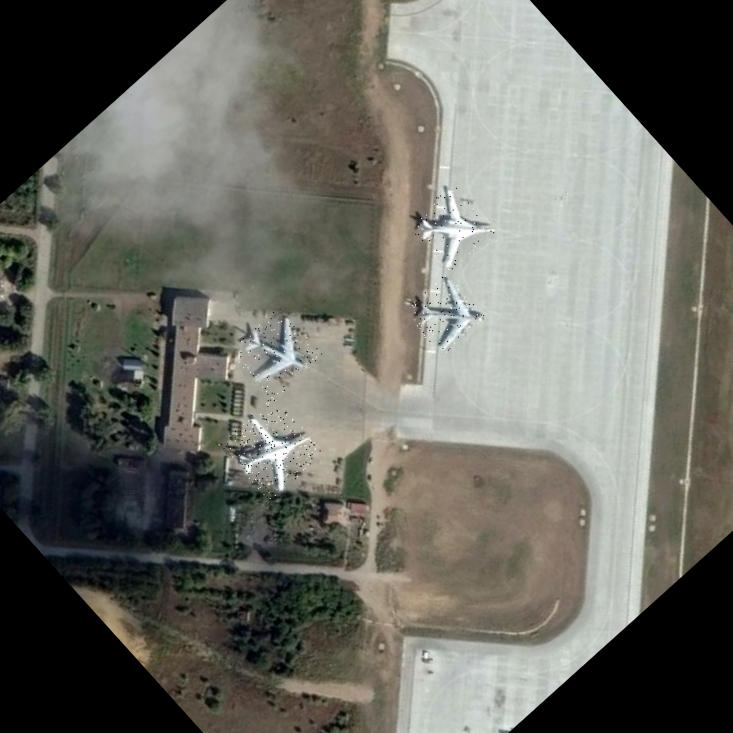A17: (228, 306, 323, 400), (401, 272, 485, 356)
A6: (217, 394, 324, 501), (404, 182, 496, 274)
